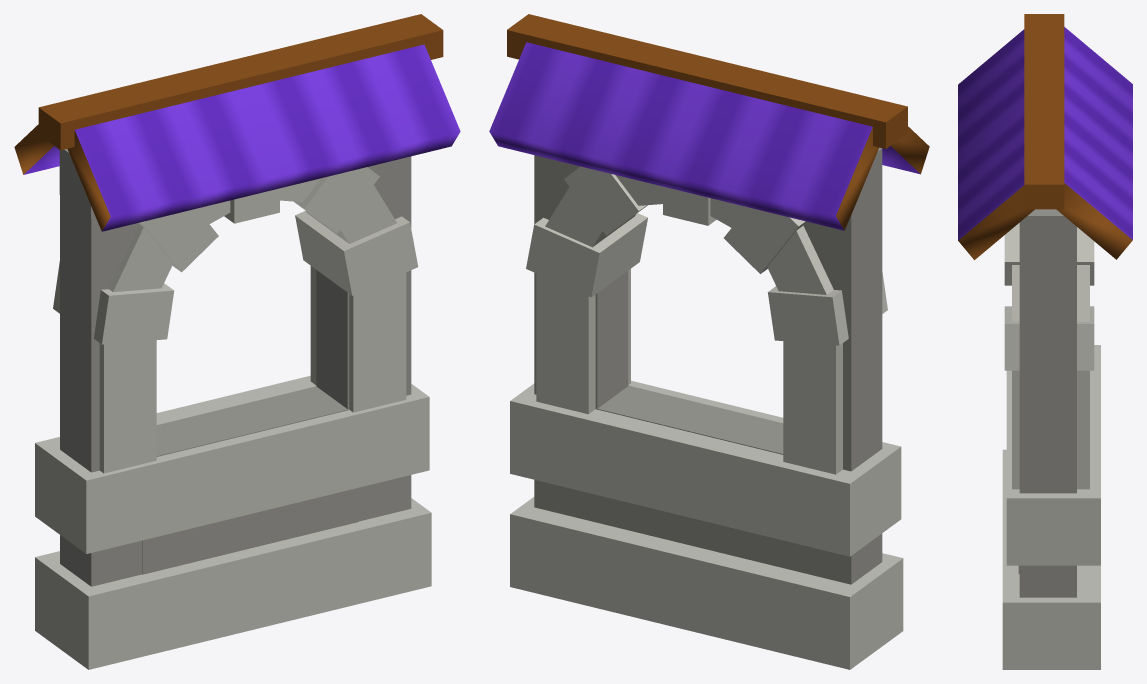
The model's file is drawbridge.fbx.
3 renders of one model, left to right at view 1: azimuth 30°, elevation 25°; view 2: azimuth 150°, elevation 25°; view 3: azimuth 270°, elevation 25°, orthographic. The views are drawn at different scales.
Visible parts, largest first — view 1: polySurface167; view 2: polySurface167; view 3: polySurface167.
Part boxes in pixels (x1,y1,x2,y2): polySurface167: [14, 14, 460, 669]; polySurface167: [489, 14, 929, 669]; polySurface167: [958, 14, 1132, 669].
Size of the model in its own units: 131 by 178 by 56.78.
1 material, 1 textured.
